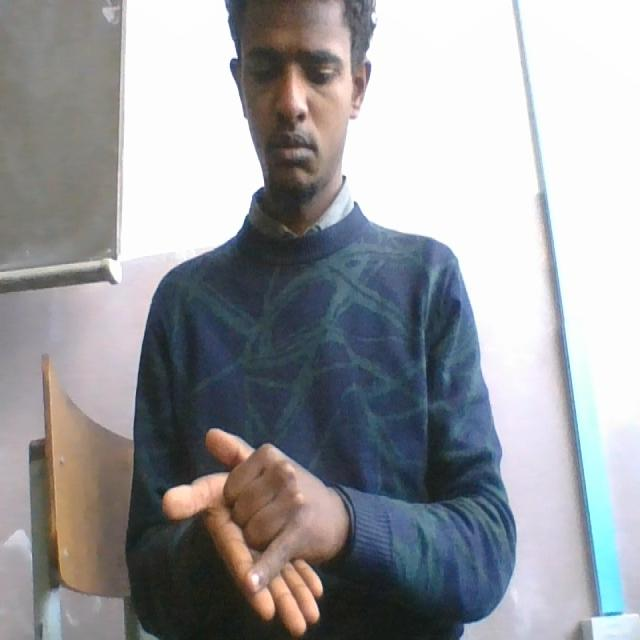keziya: (154, 427, 342, 636)
